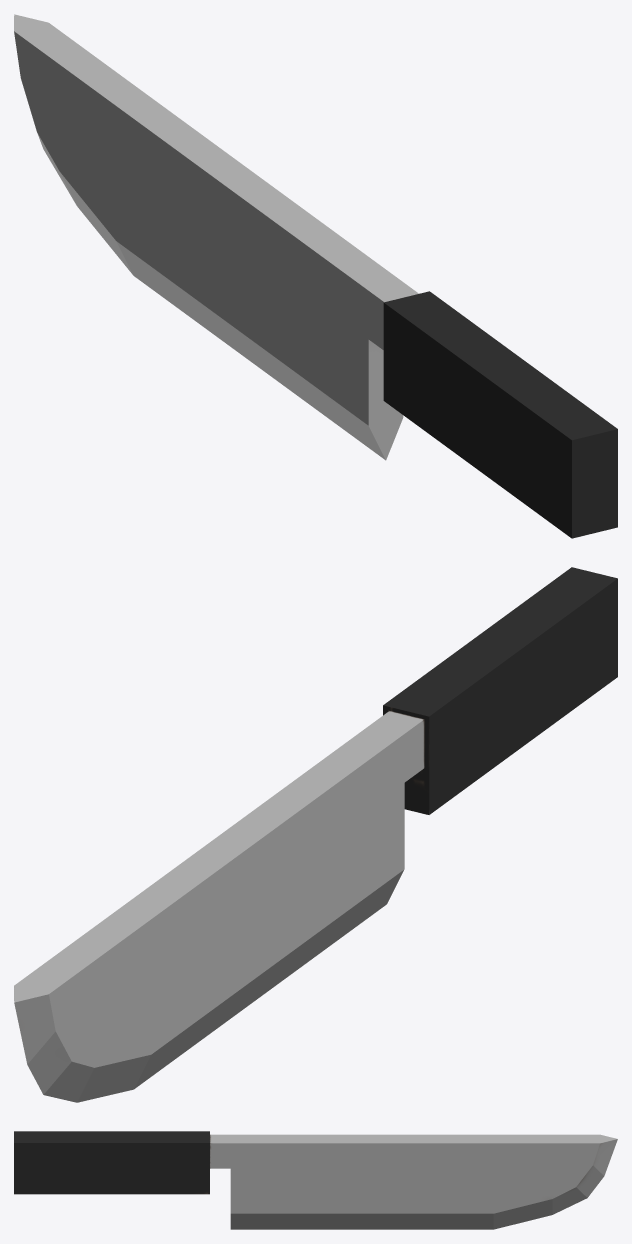
The model's file is kitchen_nife.fbx.
The picture shows the model from 3 angles, top to bottom: view 1: azimuth 30°, elevation 25°; view 2: azimuth 150°, elevation 25°; view 3: azimuth 270°, elevation 25°; orthographic projection. The views are drawn at different scales.
Parts seen in each view (by area): view 1: nife.002; view 2: nife.002; view 3: nife.002.
Part boxes in pixels (x1,y1,x2,y2): nife.002: (14, 14, 617, 538); nife.002: (14, 567, 617, 1102); nife.002: (14, 1131, 617, 1229).
Bounding box in the file's own units: 3.21 × 11.87 × 70.08.
Materials: 1 (1 with a texture image).
